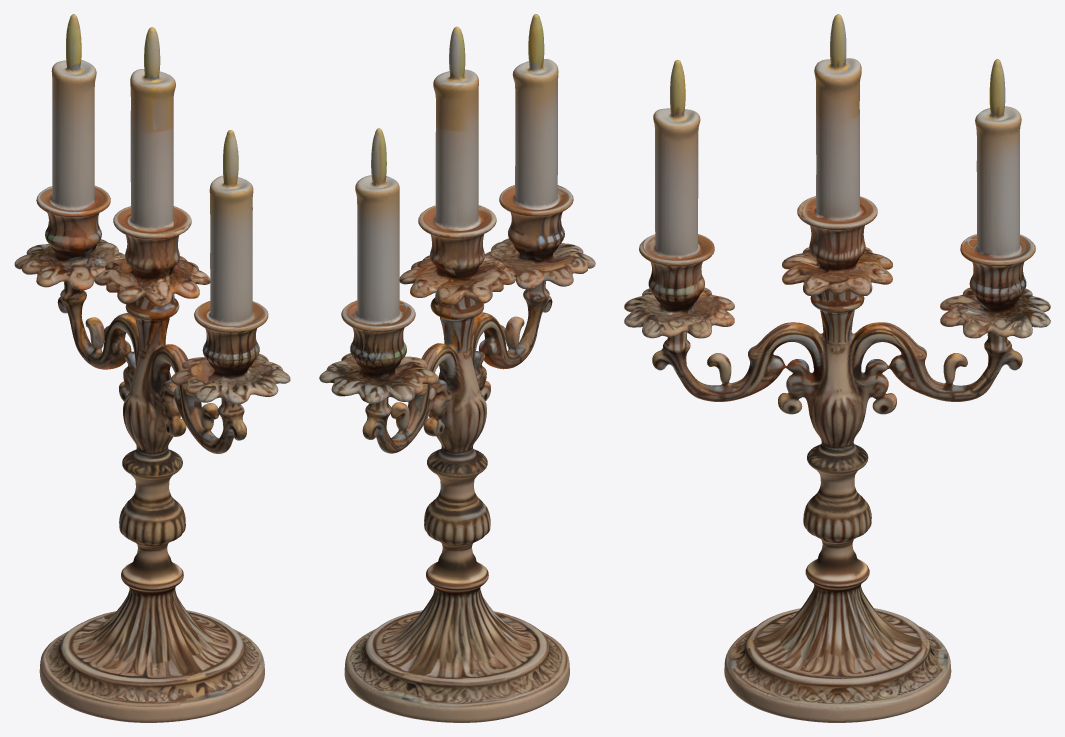
The model's file is candle-08.glb.
The picture shows the model from 3 angles, left to right: view 1: azimuth 30°, elevation 25°; view 2: azimuth 150°, elevation 25°; view 3: azimuth 270°, elevation 25°; orthographic projection.
Parts seen in each view (by area): view 1: tripo_node_b6c4cfae-c753-4d9d-a826-fc5d2e5baa24; view 2: tripo_node_b6c4cfae-c753-4d9d-a826-fc5d2e5baa24; view 3: tripo_node_b6c4cfae-c753-4d9d-a826-fc5d2e5baa24.
Part boxes in pixels (left/top/right/bottom): tripo_node_b6c4cfae-c753-4d9d-a826-fc5d2e5baa24: left=14, top=14, right=290, bottom=722; tripo_node_b6c4cfae-c753-4d9d-a826-fc5d2e5baa24: left=319, top=14, right=595, bottom=722; tripo_node_b6c4cfae-c753-4d9d-a826-fc5d2e5baa24: left=624, top=14, right=1050, bottom=722.
Size of the model in its own units: 0.2983 by 0.9487 by 0.5532.
Materials: 1 (1 with a texture image).
